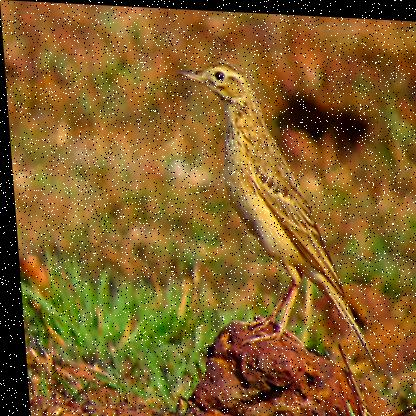Burung: (175, 58, 376, 370)
